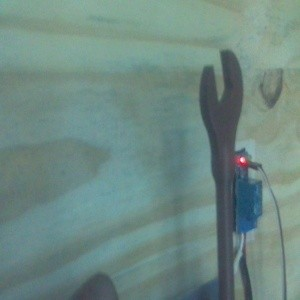spanner: (198, 49, 245, 300)
